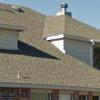Chimney: (51, 2, 73, 20)
